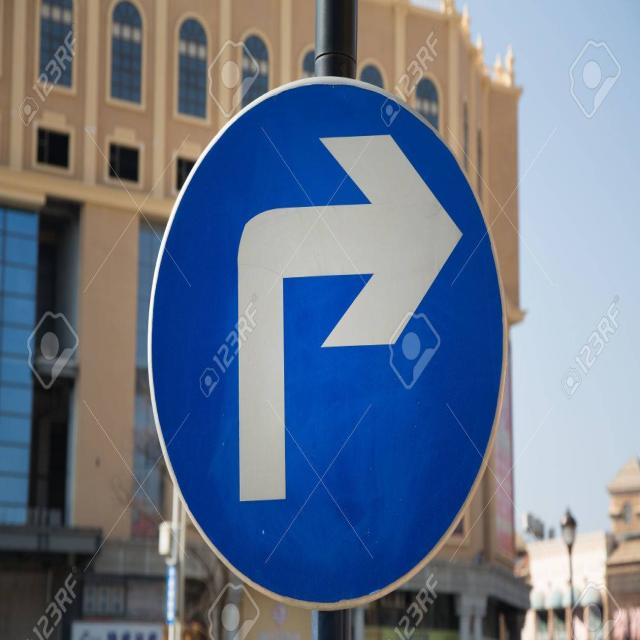RIGHT: (147, 78, 506, 604)
